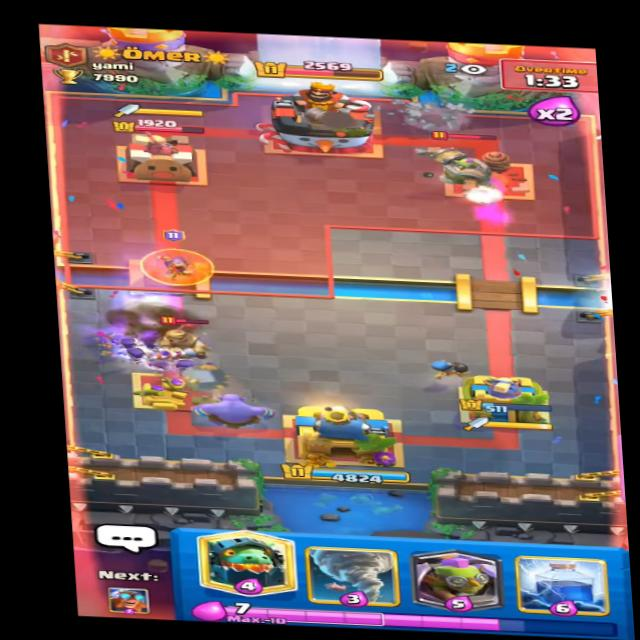evo-wizard: (136, 228, 221, 290)
goblin-machine: (412, 130, 514, 201)
prince: (152, 314, 210, 374)
